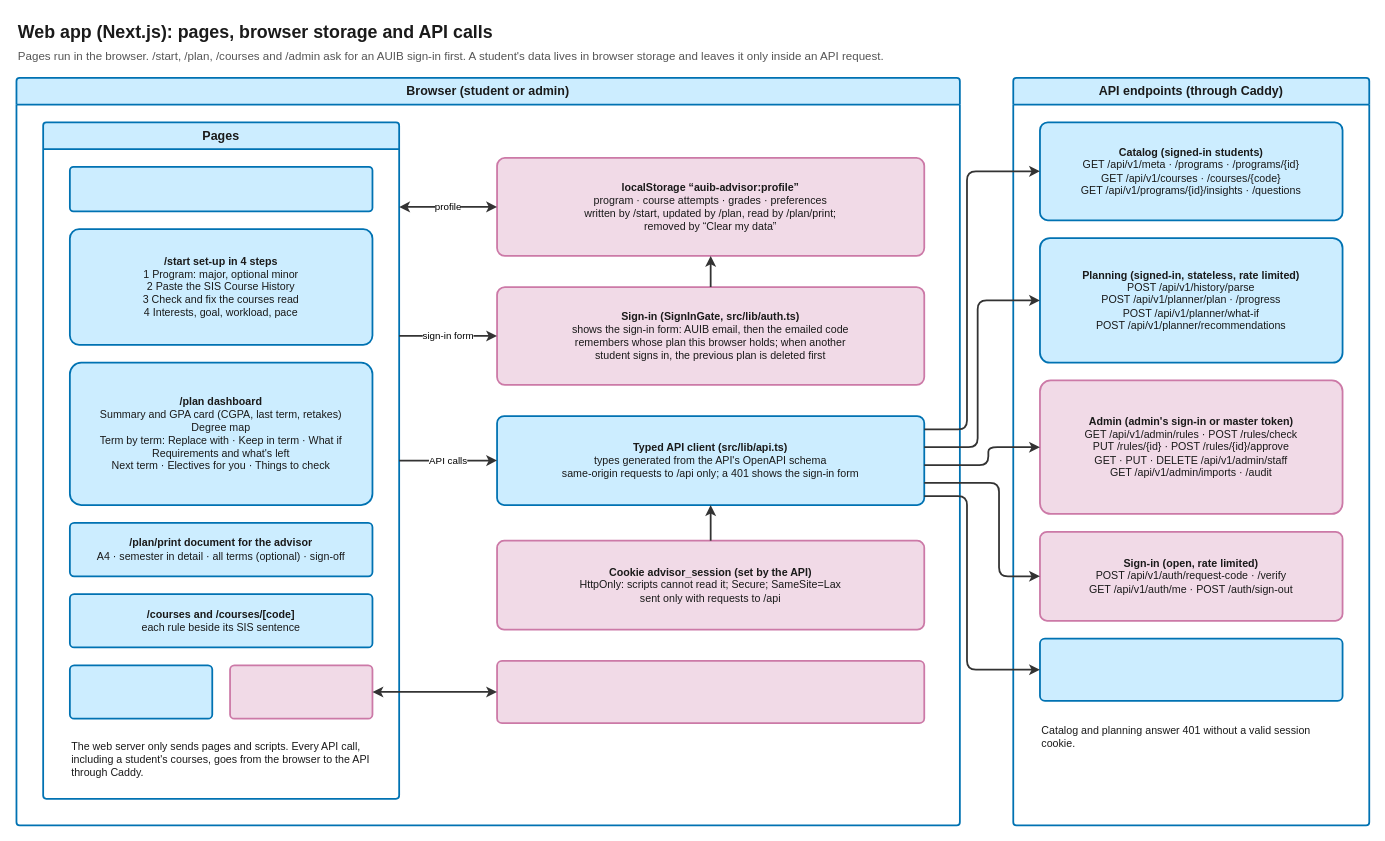
Some shapes in this 1385 by 841 pixel diagram are drawn without their labels. Each missing label, with the centre of its shape:
"/ Home" goes at (221,189).
"/admin admins, by their sign-in" goes at (301,691).
"/privacy Clear my data" goes at (141,691).
"Health GET /api/health · /api/ready" goes at (1191,669).
"sessionStorage: master token only if entered; forgotten when the tab closes" goes at (710,691).
